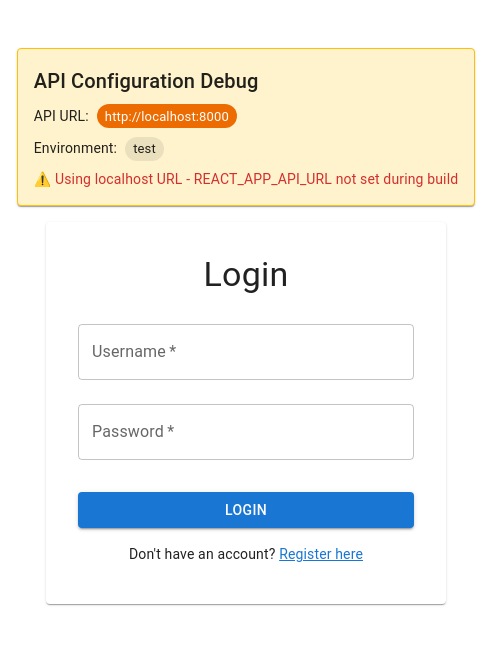
it: Authentication Flow Integration › Login Flow › should handle login failure and show error
Type "wronguser" into the field labelled "Username *".
click(246, 352); type("wronguser")  # box x1=78 y1=324 x2=414 y2=380
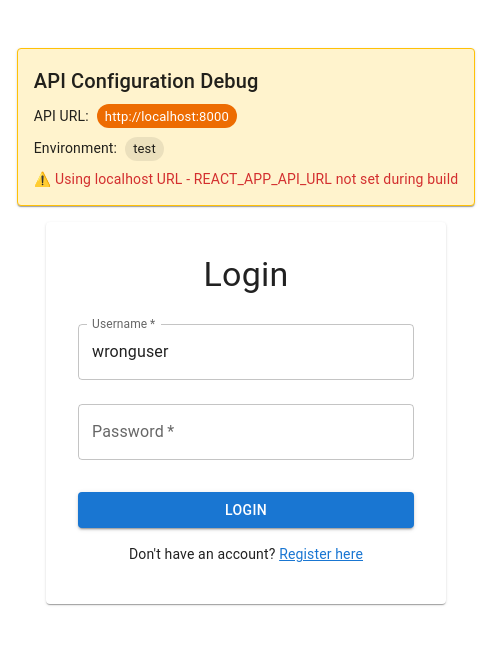
Type "wrongpass" into the password field labelled "Password *".
click(246, 432); type("wrongpass")  # box x1=78 y1=404 x2=414 y2=460
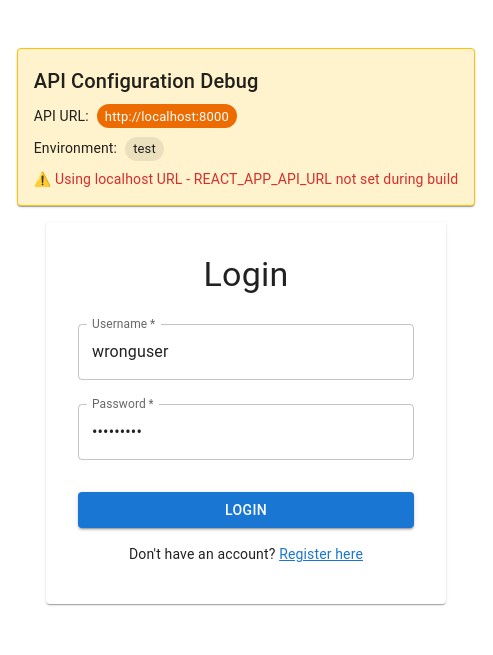
Click the button "Login".
click(246, 510)  # box x1=78 y1=492 x2=414 y2=528
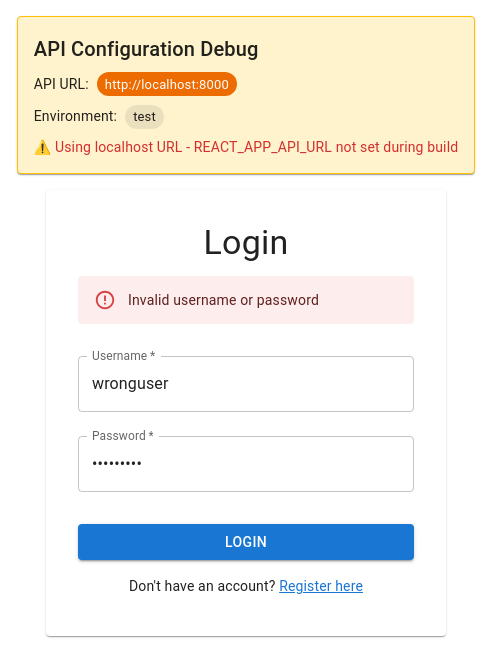
Check: the text "Invalid username or password" is shown, box x1=128 y1=292 x2=319 y2=308
